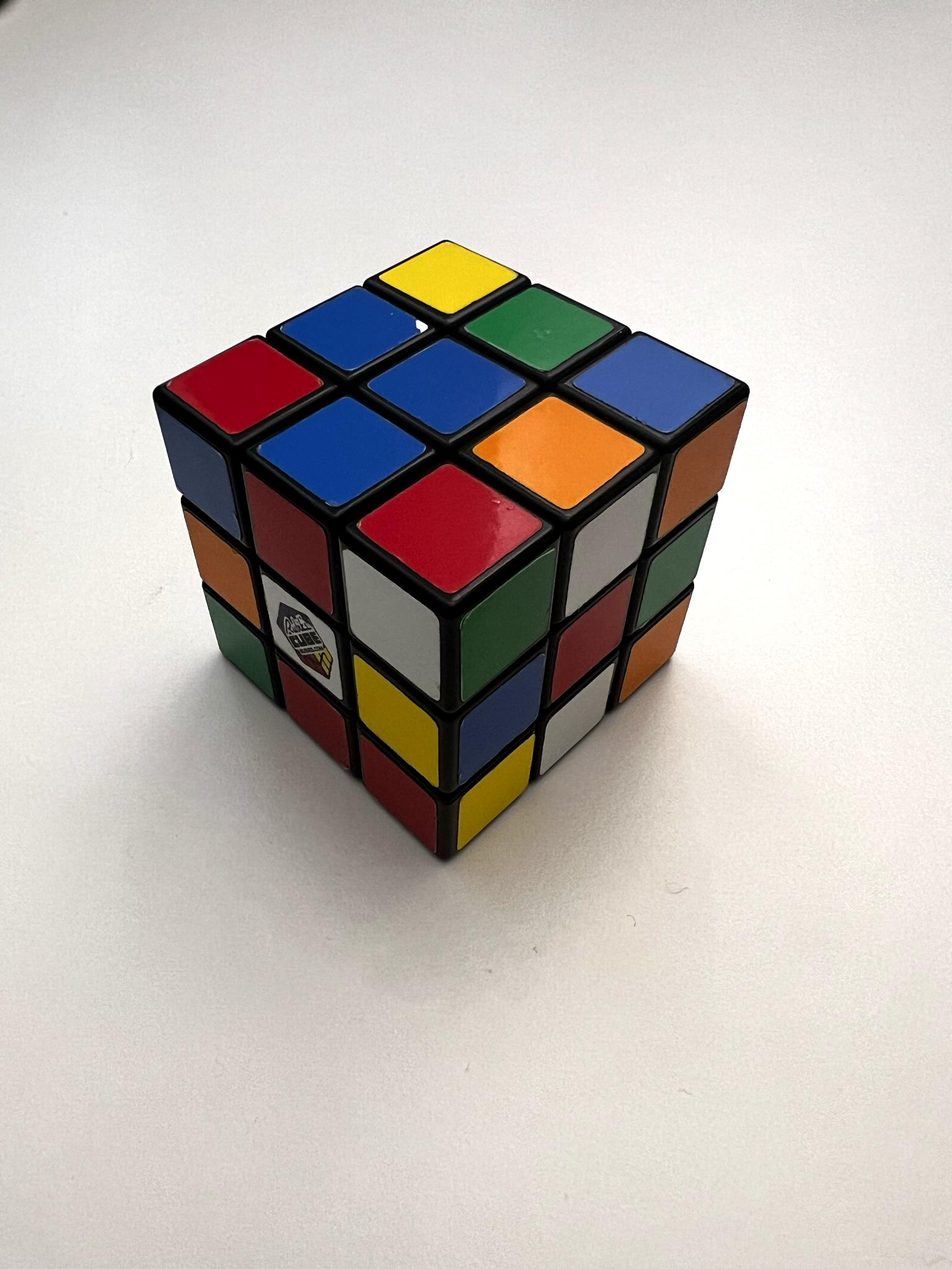rubiks_cube: (156, 243, 746, 853)
